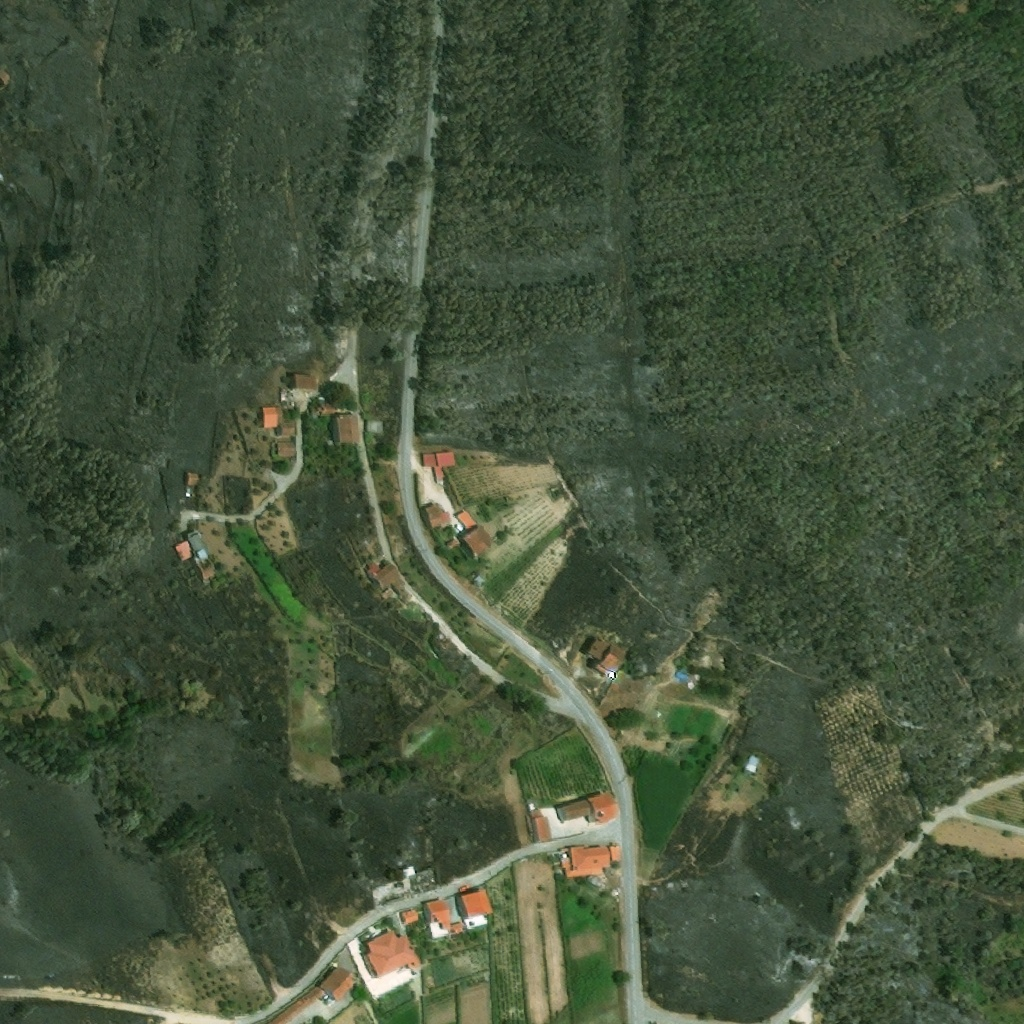0 no-damage: (268, 966, 359, 1023), (358, 929, 424, 980), (557, 789, 621, 825), (581, 634, 631, 678), (454, 886, 495, 931), (558, 845, 612, 879), (422, 899, 465, 941), (367, 560, 406, 593), (459, 524, 497, 557), (263, 406, 297, 437), (422, 450, 457, 479), (333, 415, 362, 444), (425, 502, 455, 529), (531, 816, 553, 844), (290, 373, 317, 390), (744, 754, 764, 775), (399, 907, 420, 925), (457, 510, 476, 528), (309, 401, 336, 413), (184, 471, 202, 487), (277, 442, 297, 456), (470, 571, 487, 586), (367, 420, 384, 434), (610, 845, 620, 860), (447, 538, 459, 549)
1 minor-damage: (175, 526, 219, 583)
4 un-classified: (691, 651, 714, 671)
